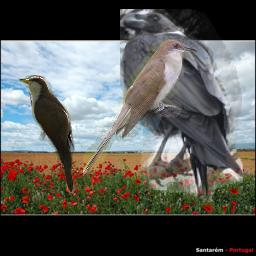Crow: (120, 9, 243, 202)
Cuckoo: (83, 39, 199, 174), (18, 75, 77, 194)
